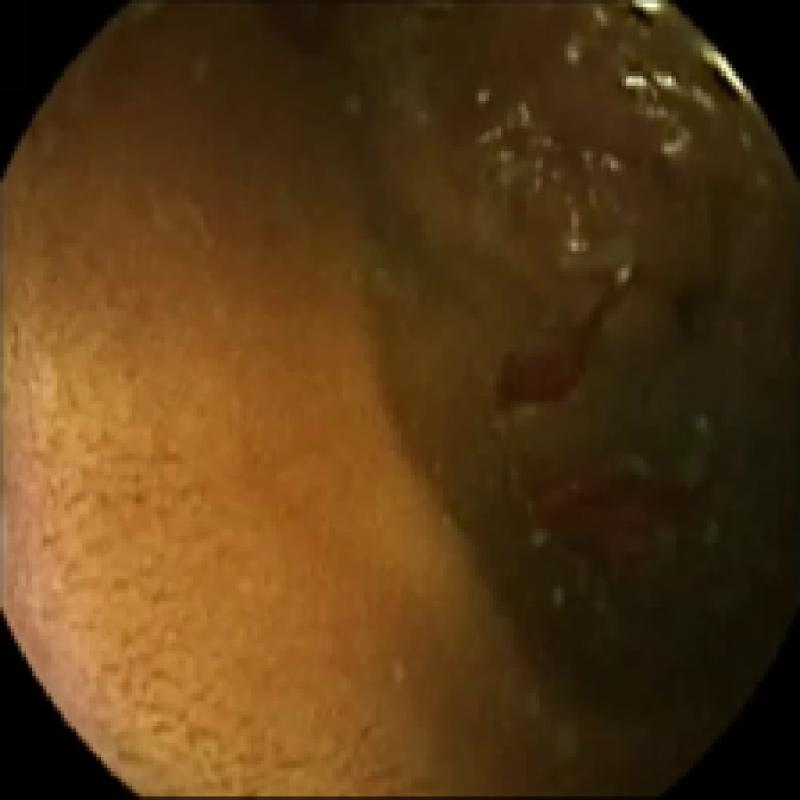bleeding: (496, 264, 646, 407)
